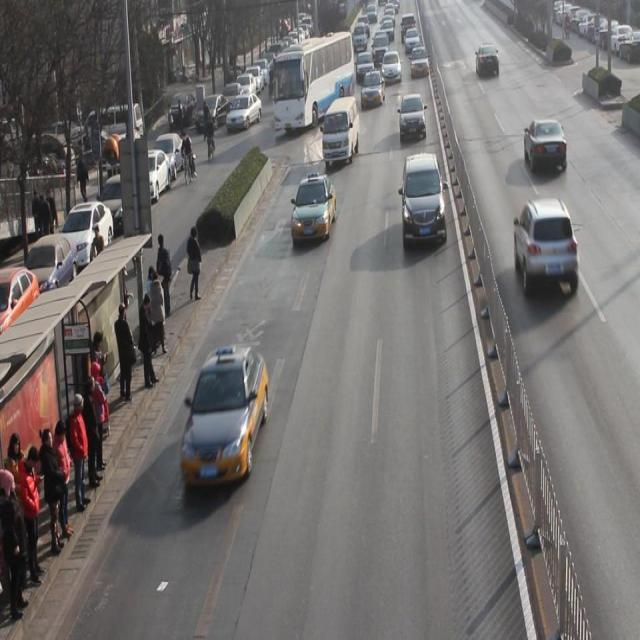car: (182, 345, 269, 488), (514, 199, 580, 298), (402, 154, 448, 249), (292, 176, 337, 244), (524, 118, 568, 176), (398, 93, 426, 145), (360, 69, 386, 110), (476, 43, 500, 79), (381, 50, 402, 85), (356, 50, 376, 85), (410, 46, 430, 78)
truck: (322, 97, 361, 170)
van: (272, 29, 355, 131)
